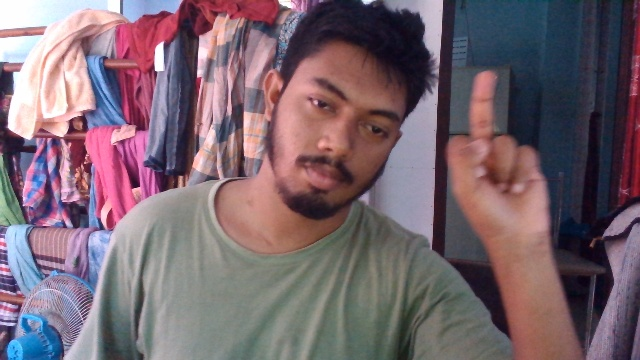fucku: (443, 69, 561, 239)
